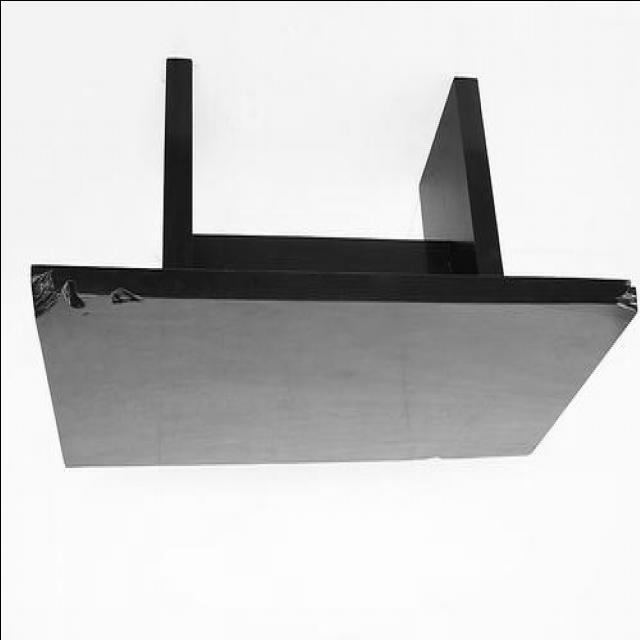table: (29, 38, 636, 470)
